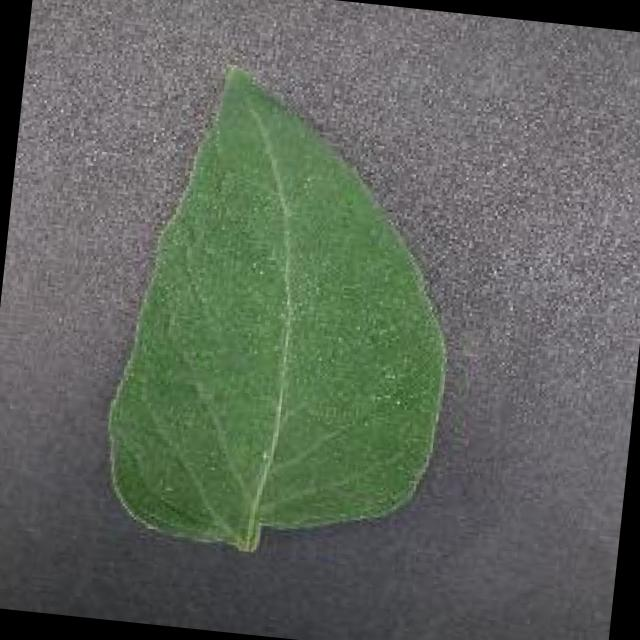Tomato_Healthy: (74, 39, 496, 576)
